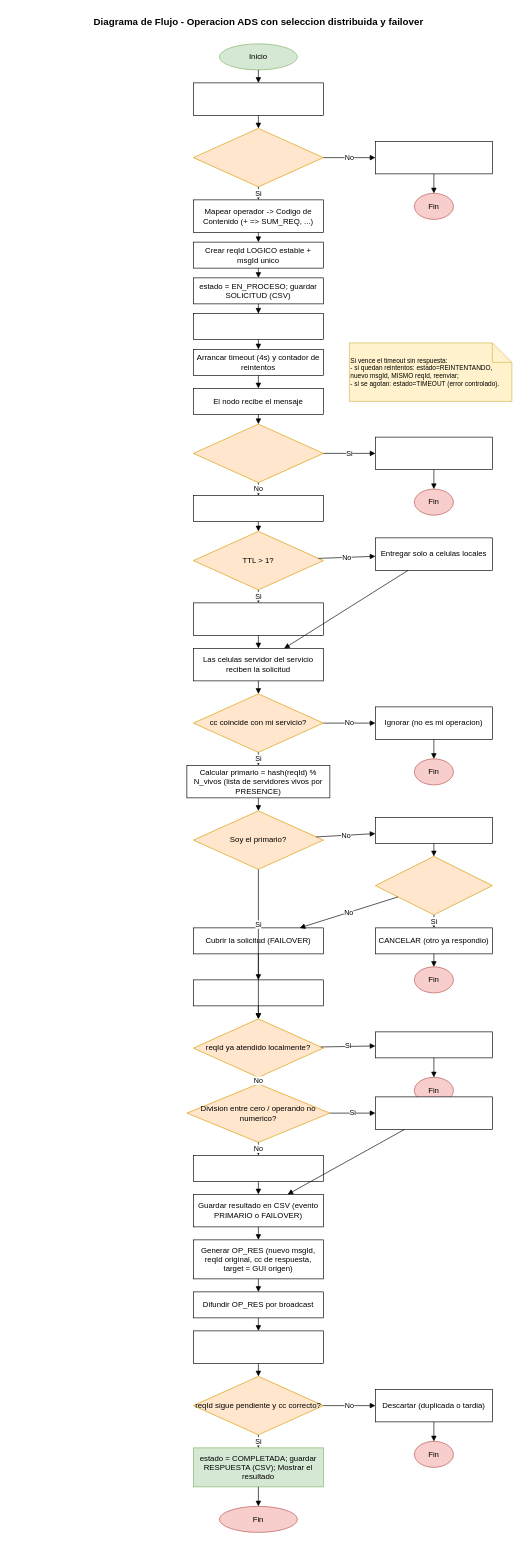
The diagram is 523 pixels wide and 1544 high, and some of its shapes have lost their labels. The shapes that lost their labels are listed below. From the top down, each one's centre as x and y in pixels, then its label:
At point 258,98: "Usuario escribe operacion y presiona Enviar en una GUI".
At point 258,157: "Operandos llenos y operador valido?".
At point 433,157: "Avisar en barra de estado y NO enviar".
At point 258,326: "Enviar OP_REQ al nodo".
At point 258,453: "msgId ya visto en este nodo?".
At point 433,453: "DESCARTAR (duplicado), no retransmitir".
At point 258,508: "Registrar msgId (markSeen)".
At point 258,618: "Decrementar TTL y BROADCAST a nodos y celulas (menos origen)".
At point 433,830: "Esperar un retardo escalonado".
At point 433,885: "Ya vi una OP_RES para este reqId?".
At point 258,992: "Responder de inmediato".
At point 433,1044: "No repetir (idempotencia)".
At point 433,1112: "Resultado = mensaje de ERROR controlado".
At point 258,1168: "Calcular con BigDecimal".
At point 258,1346: "La GUI destino recibe OP_RES (target == su id)".
